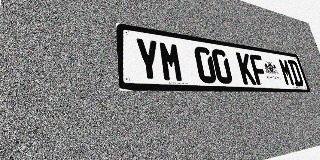0: (193, 46, 217, 84), (211, 48, 233, 84)
D: (287, 60, 304, 86)
F: (249, 54, 269, 85)
K: (236, 52, 257, 85)
M: (158, 41, 184, 82), (278, 58, 295, 86)
Y: (134, 37, 162, 82)
